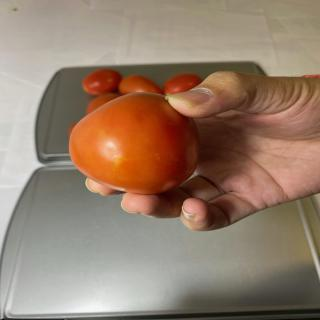Apple: (68, 92, 200, 195)
Tomato: (82, 68, 121, 95), (118, 74, 163, 96), (162, 73, 202, 96), (86, 92, 120, 116)
